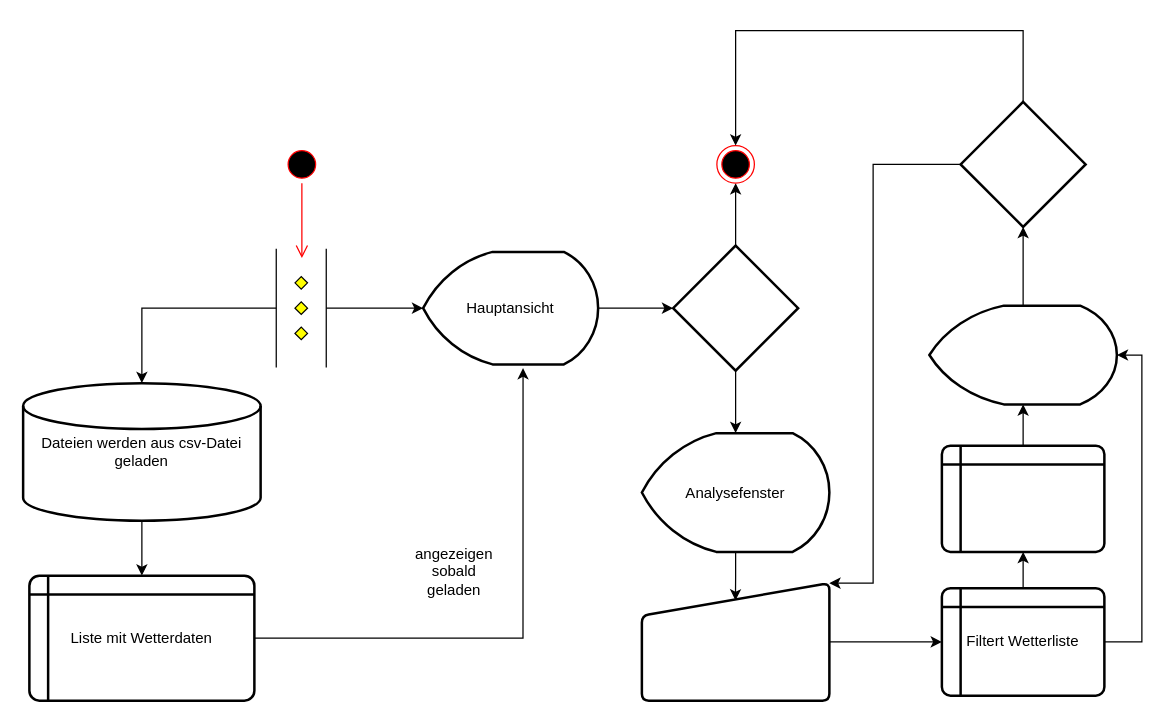
Some shapes in this 1174 by 724 pixel diagram are drawn without their labels. The centre of each missing label's shape, as x and y in pixels:
"Anfang- und Enddatum" goes at pixel 735 641.
"Anzeige des Ergebnisses" goes at pixel 1023 354.
"Berechnet Min/Max/AVG- Werte" goes at pixel 1022 498.
